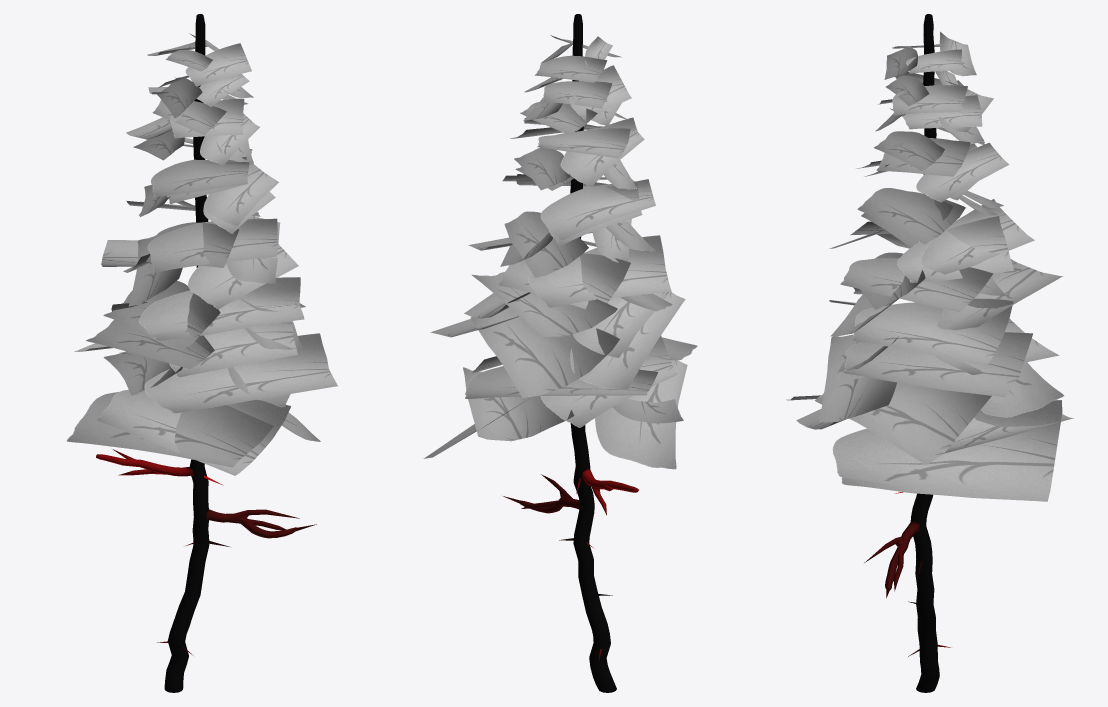
Rendered from M_Pine_5_13.fbx.
The picture shows the model from 3 angles, left to right: view 1: azimuth 30°, elevation 25°; view 2: azimuth 150°, elevation 25°; view 3: azimuth 270°, elevation 25°; orthographic projection. The views are drawn at different scales.
Visible parts, largest first — view 1: Mobile_Pine_13; view 2: Mobile_Pine_13; view 3: Mobile_Pine_13.
Boxes of the visible parts, x1=… form: Mobile_Pine_13: x1=66, y1=14, x2=337, y2=692; Mobile_Pine_13: x1=423, y1=14, x2=697, y2=692; Mobile_Pine_13: x1=786, y1=14, x2=1073, y2=692.
Bounding box in the file's own units: 1916 × 4157 × 1768.
